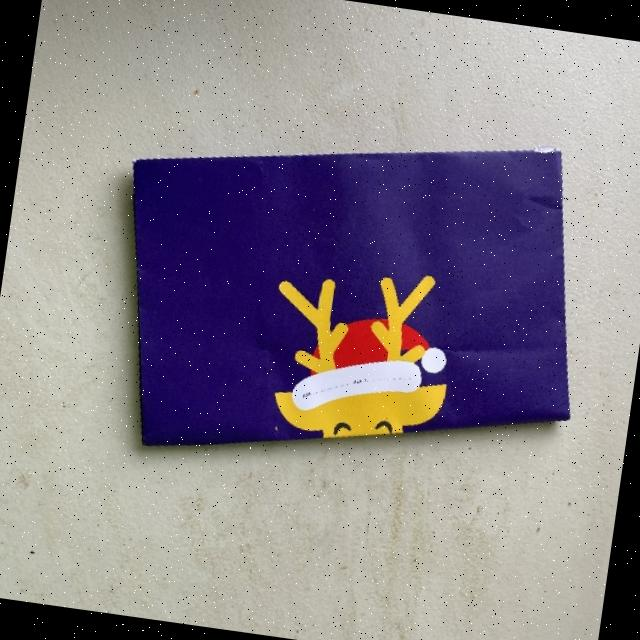paper: (93, 89, 608, 504)
